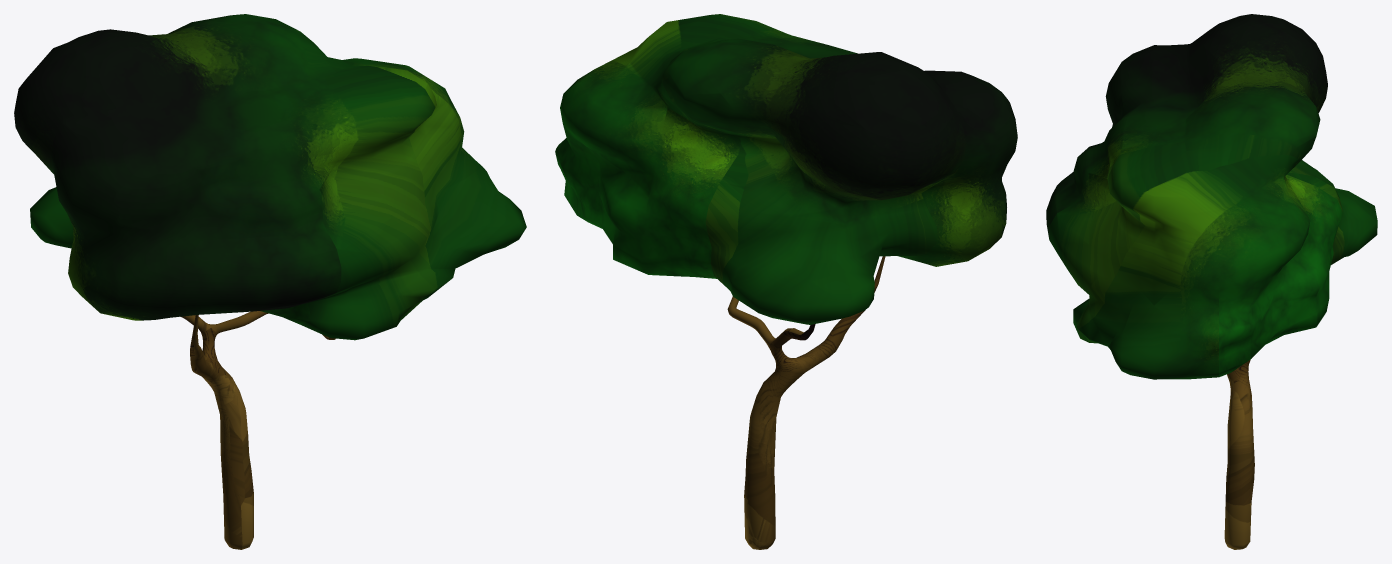
The model's file is Arboles1_3.fbx.
The picture shows the model from 3 angles, left to right: view 1: azimuth 30°, elevation 25°; view 2: azimuth 150°, elevation 25°; view 3: azimuth 270°, elevation 25°; orthographic projection. The views are drawn at different scales.
Parts seen in each view (by area): view 1: Arbol3_LOD0; view 2: Arbol3_LOD0; view 3: Arbol3_LOD0.
Boxes of the visible parts, x1=… form: Arbol3_LOD0: x1=14, y1=14, x2=526, y2=549; Arbol3_LOD0: x1=555, y1=14, x2=1017, y2=549; Arbol3_LOD0: x1=1046, y1=14, x2=1377, y2=549.
Size of what is drawn, in the model's own units: 1252 by 1416 by 898.
